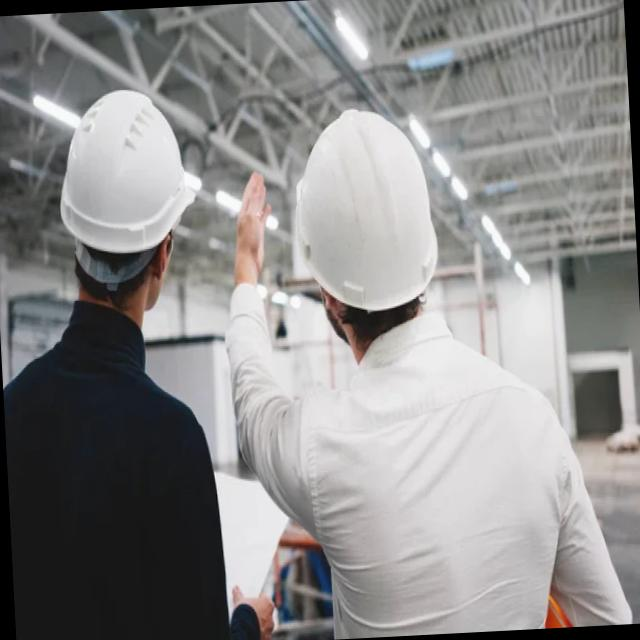helmet: (276, 102, 458, 324), (51, 85, 200, 292)
no-vest: (304, 339, 566, 640), (0, 319, 225, 640)
